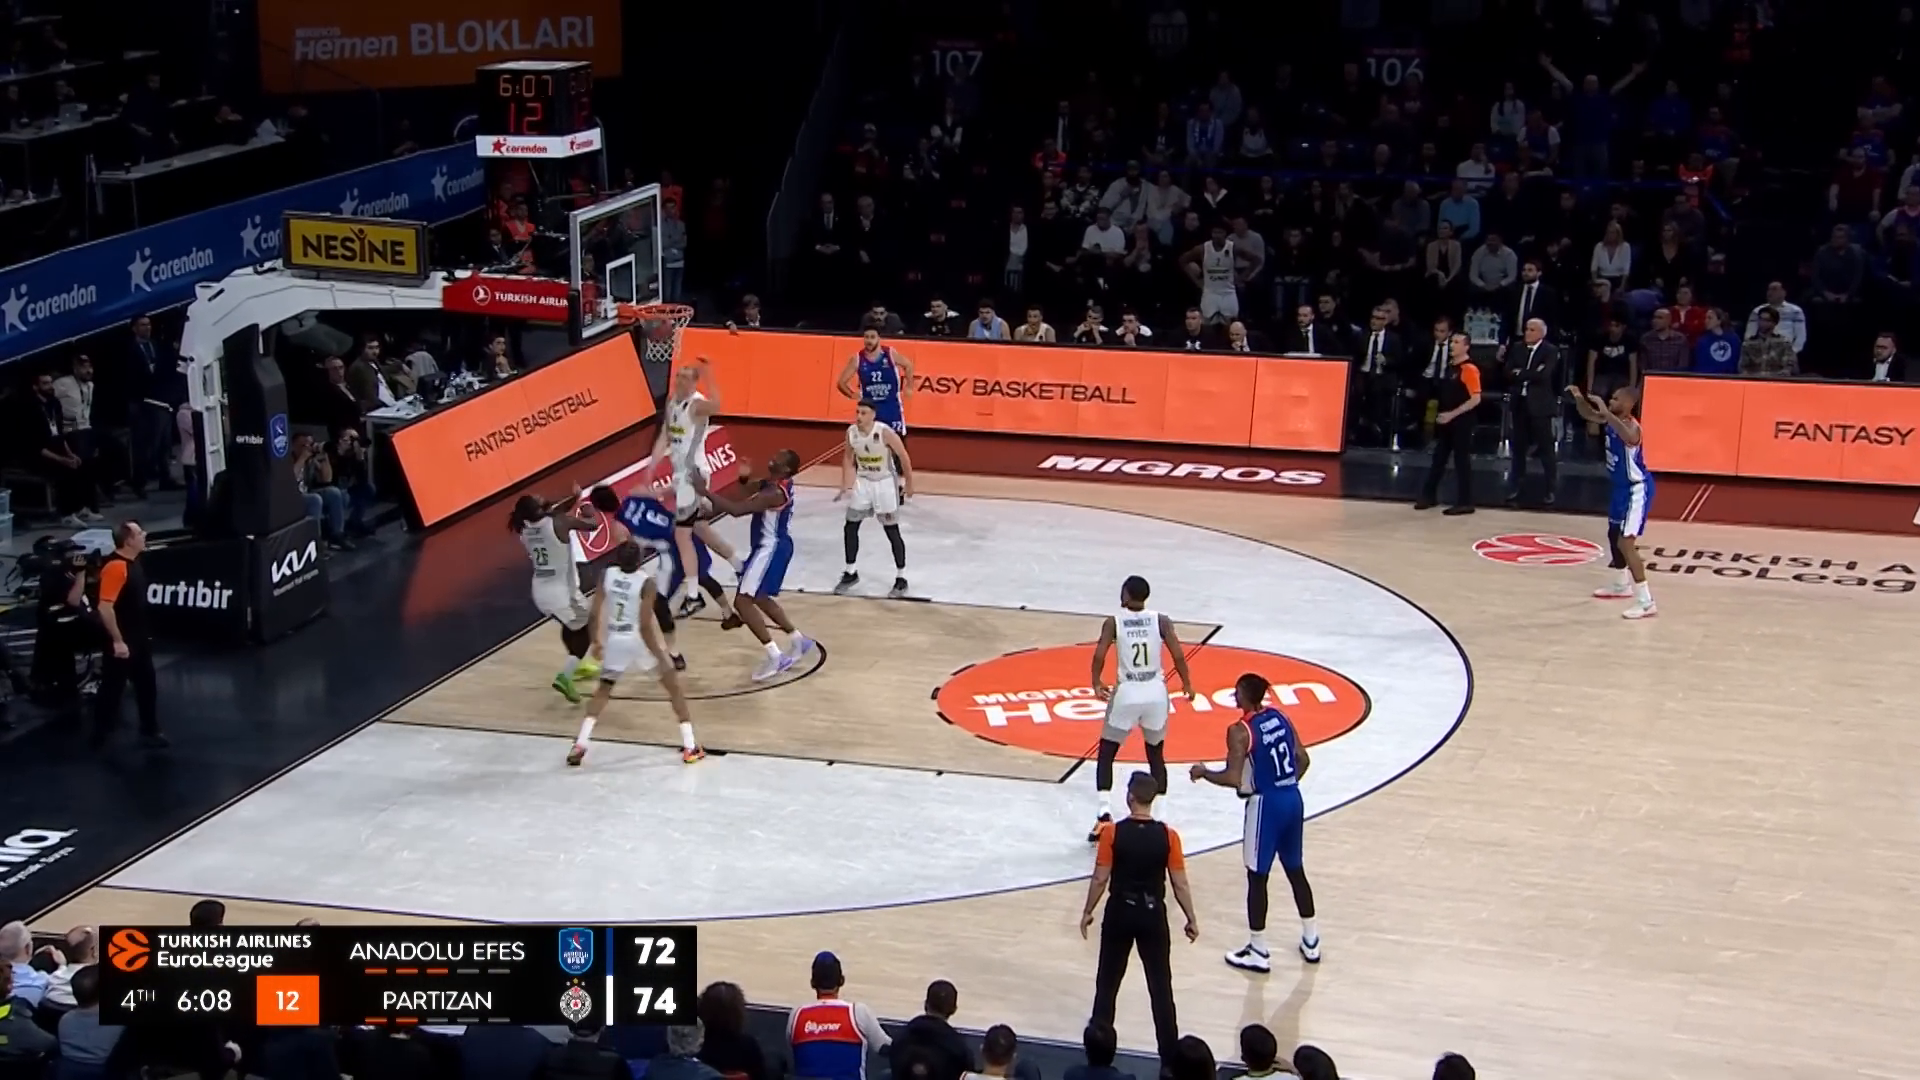ball: (641, 314, 675, 345)
net: (633, 301, 696, 361)
